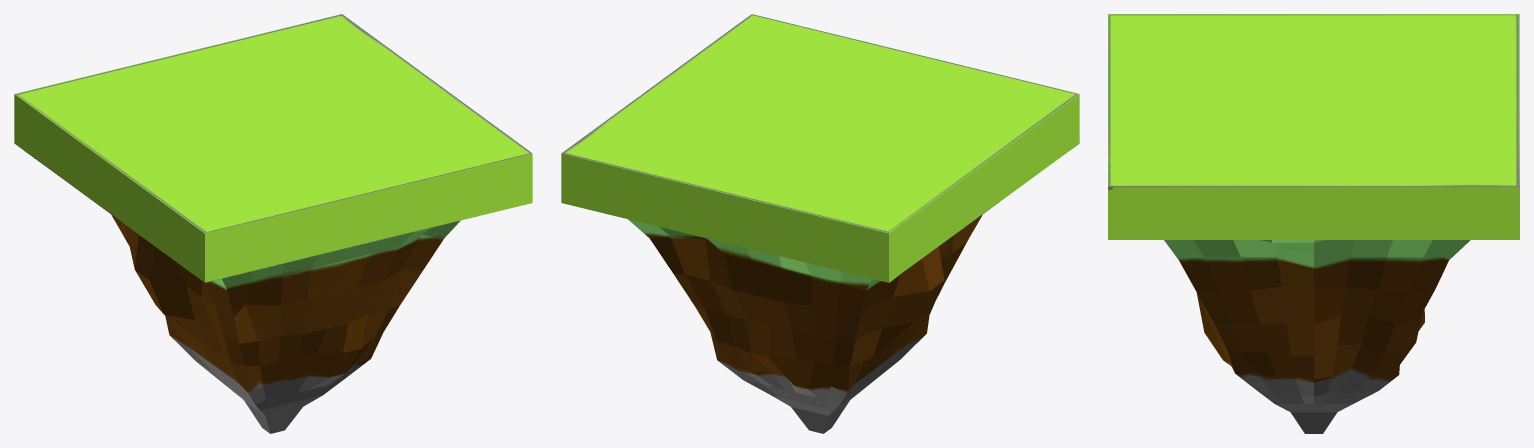
Rendered from normalBlock.obj.
The picture shows the model from 3 angles, left to right: view 1: azimuth 30°, elevation 25°; view 2: azimuth 150°, elevation 25°; view 3: azimuth 270°, elevation 25°; orthographic projection. The views are drawn at different scales.
Parts seen in each view (by area): view 1: Cube_Cube.001; view 2: Cube_Cube.001; view 3: Cube_Cube.001.
Boxes of the visible parts, x1,y1,x2,y2 form: Cube_Cube.001: (14,14,532,433); Cube_Cube.001: (561,14,1079,433); Cube_Cube.001: (1108,14,1519,433).
Bounding box in the file's own units: 7.79 × 6.93 × 7.84.
